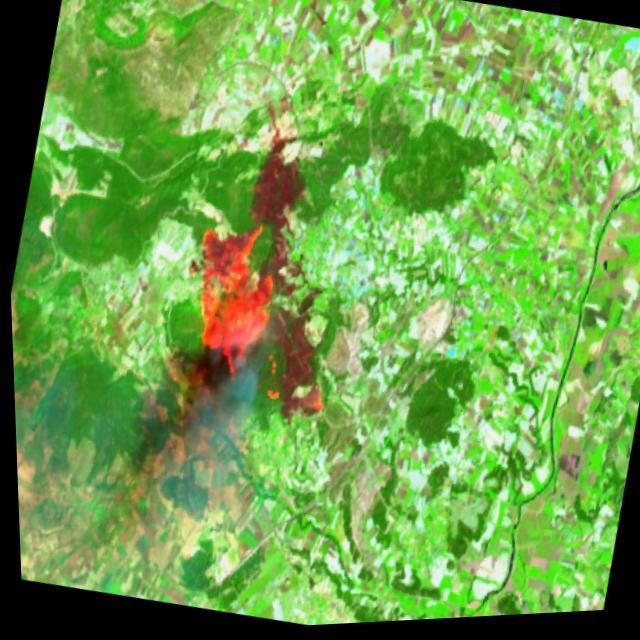fire: (155, 203, 298, 405)
